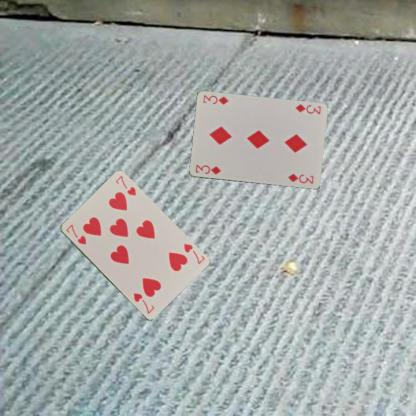3d: (292, 102, 322, 116), (193, 162, 222, 176)
7h: (181, 241, 206, 266), (63, 221, 87, 246)
